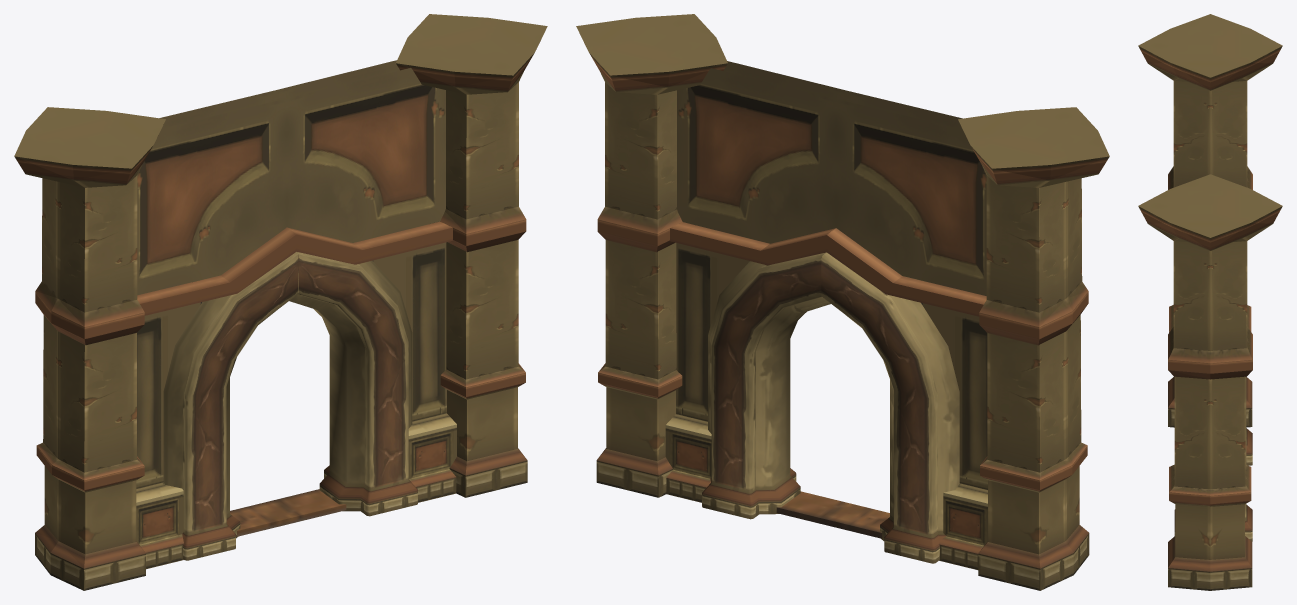
File: wall big door.FBX
3 renders of one model, left to right at view 1: azimuth 30°, elevation 25°; view 2: azimuth 150°, elevation 25°; view 3: azimuth 270°, elevation 25°, orthographic. The views are drawn at different scales.
Visible parts, largest first — view 1: wall big door; view 2: wall big door; view 3: wall big door.
Part boxes in pixels (x1,y1,x2,y2): wall big door: (14,14,547,590); wall big door: (576,14,1109,590); wall big door: (1138,14,1282,590).
Size of the model in its own units: 1237 by 947 by 338.
